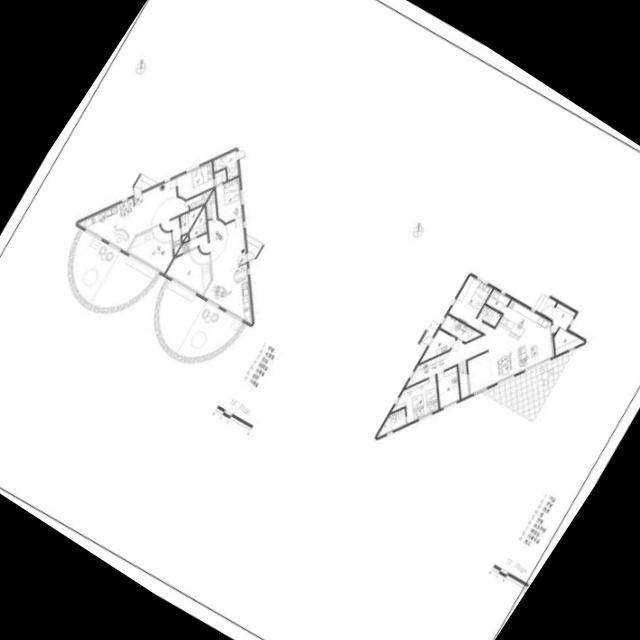background: (0, 0, 640, 640)
space_bedroom: (448, 275, 492, 330), (390, 375, 438, 424), (176, 161, 213, 199), (215, 177, 242, 223), (436, 366, 459, 409)
space_dressroom: (214, 169, 226, 186)
space_front: (549, 303, 575, 333), (133, 194, 142, 206), (237, 254, 245, 266)
space_kitchen: (76, 197, 136, 252), (203, 263, 252, 325), (497, 299, 551, 337), (485, 289, 510, 313)
space_living_room: (404, 323, 553, 395), (133, 178, 188, 234), (207, 217, 245, 279)
space_multipurpose_space: (419, 329, 455, 363)
space_other: (164, 248, 211, 296), (126, 226, 172, 274), (553, 328, 585, 355), (213, 150, 238, 180), (185, 189, 212, 209), (477, 305, 501, 327), (205, 190, 216, 220), (181, 234, 186, 242), (183, 235, 188, 242)
space_staircase: (457, 360, 468, 399), (451, 377, 458, 388)
space_toilet: (439, 315, 481, 342), (375, 408, 405, 438), (175, 233, 210, 256), (160, 217, 181, 255), (180, 205, 203, 235), (189, 206, 206, 239)
